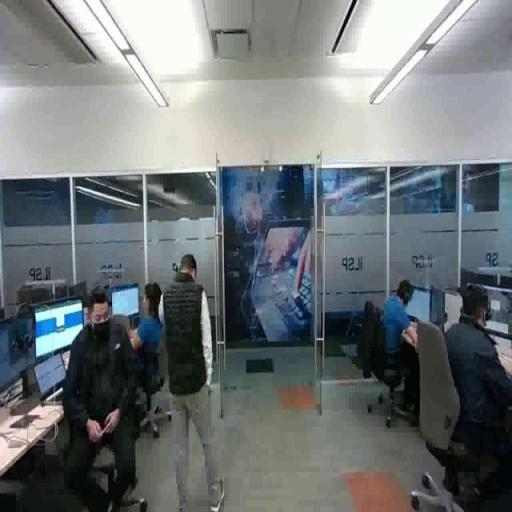person: (161, 248, 228, 512), (61, 289, 137, 512), (443, 283, 512, 493), (372, 281, 441, 420), (129, 281, 181, 428)
